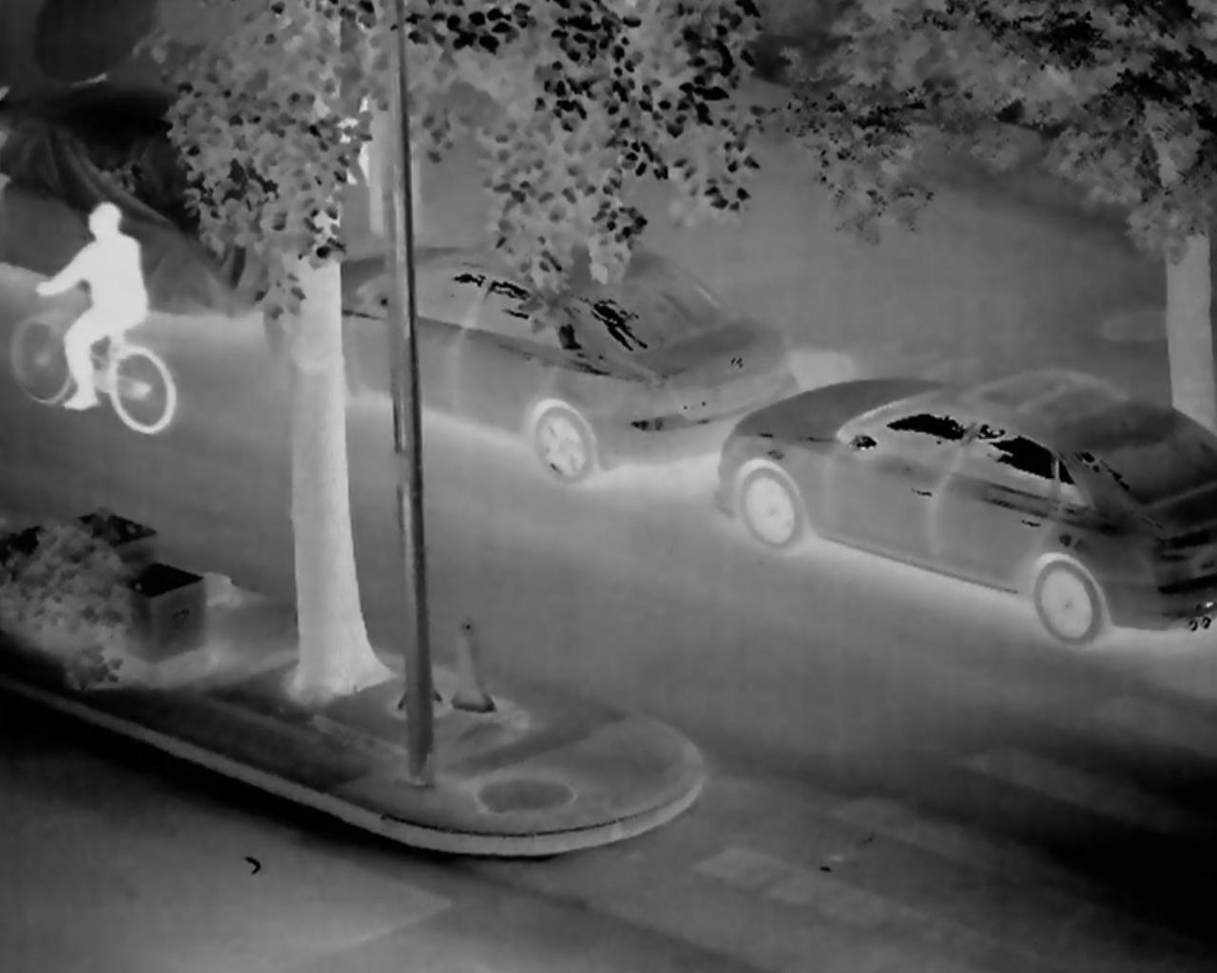person: (30, 192, 158, 417)
